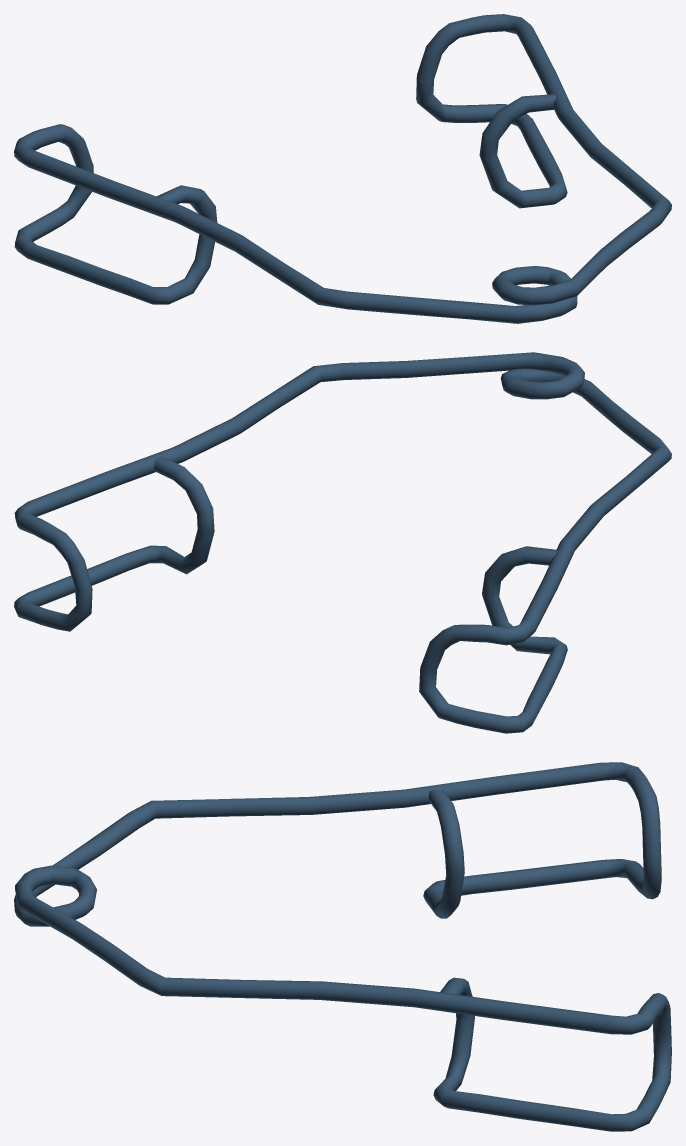
Rendered from Eyelid_opener.fbx.
3 renders of one model, top to bottom at view 1: azimuth 30°, elevation 25°; view 2: azimuth 150°, elevation 25°; view 3: azimuth 270°, elevation 25°, orthographic. The views are drawn at different scales.
Visible parts, largest first — view 1: Eyelid_opener; view 2: Eyelid_opener; view 3: Eyelid_opener.
Boxes of the visible parts, <box> form: Eyelid_opener: <box>14,14,671,323</box>; Eyelid_opener: <box>14,352,671,733</box>; Eyelid_opener: <box>14,762,671,1131</box>.
Bounding box in the file's own units: 0.997 × 0.2136 × 1.05.
Materials: 1 (1 with a texture image).
